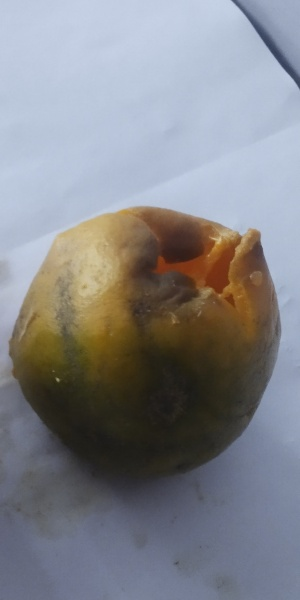BAD: (15, 207, 276, 477)
